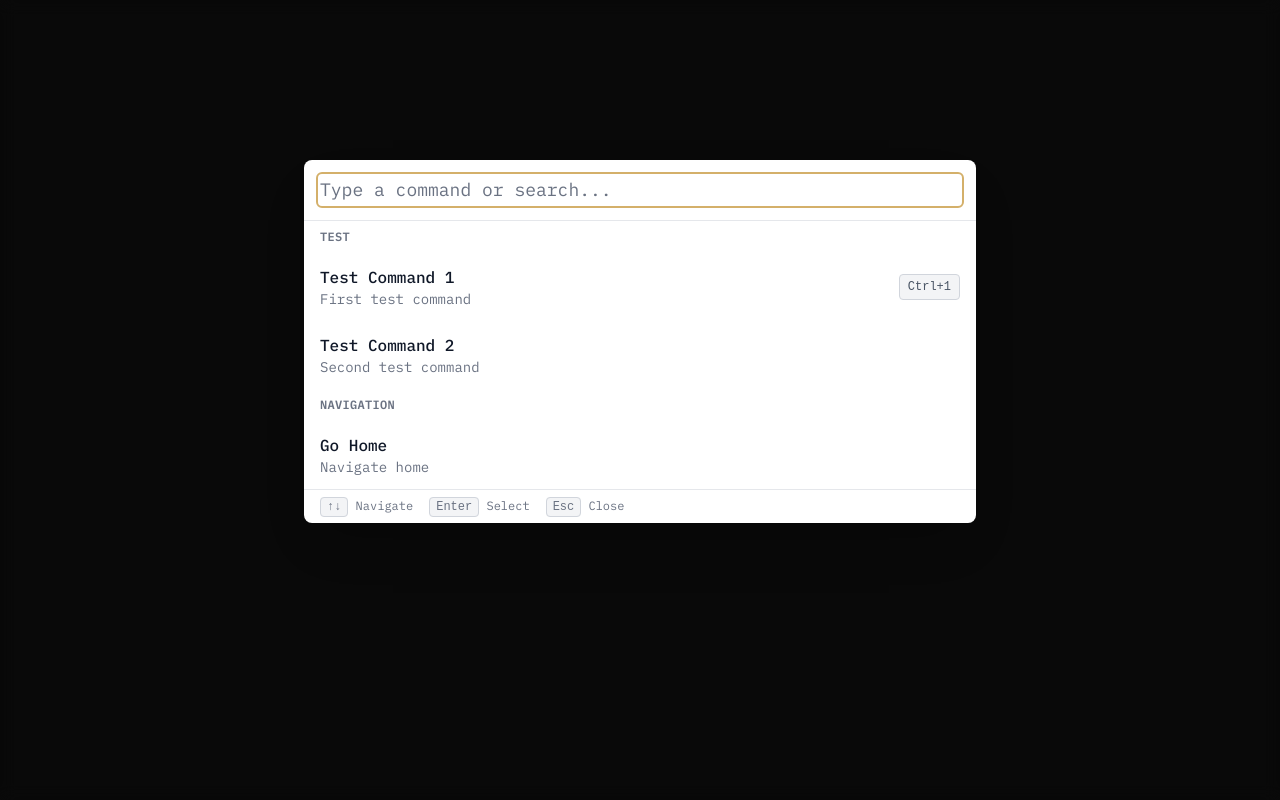
it: CommandPalette › filters commands based on search
The width and height of the screenshot is (1280, 800).
Step 1. Type "home" into the field → point(640, 190), box [320,176,960,204]
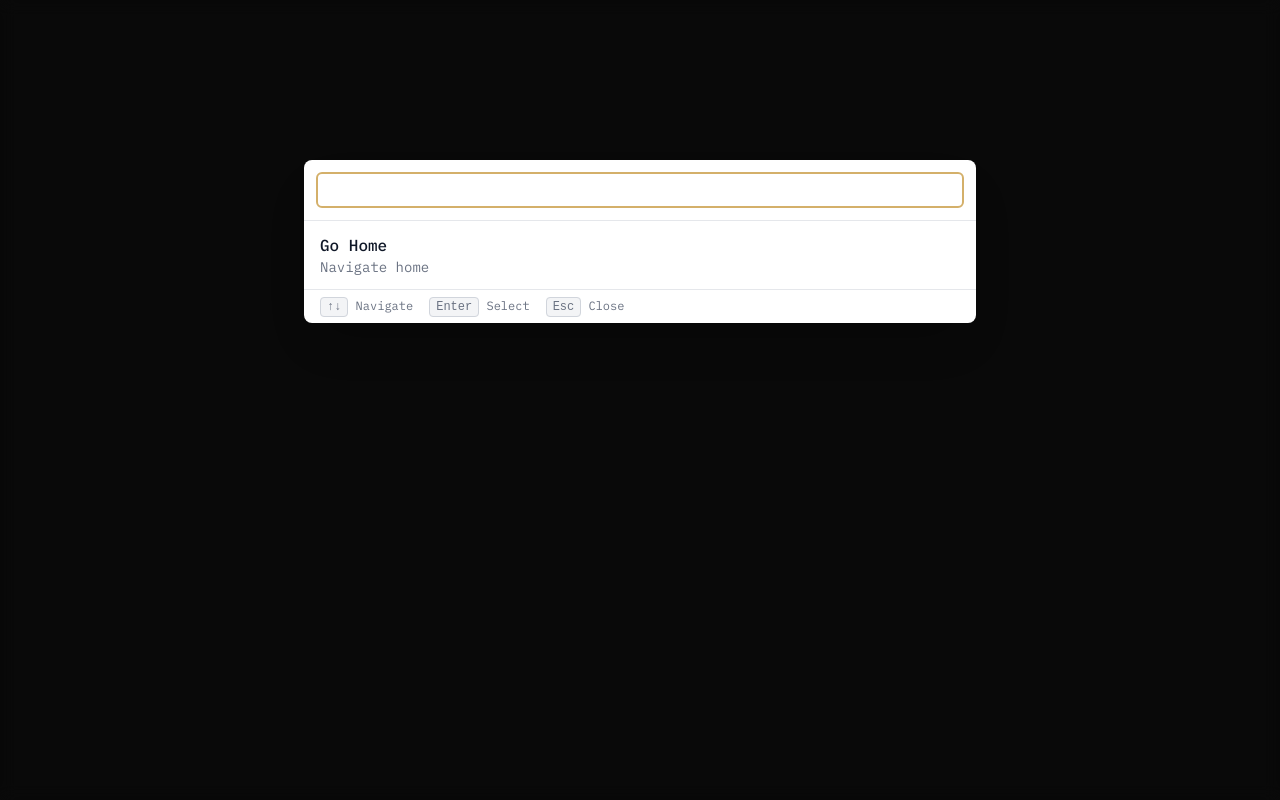
Expected: the text "Go Home" is shown, [320,235,387,255]
Now the option "Test Command 1" is gone
